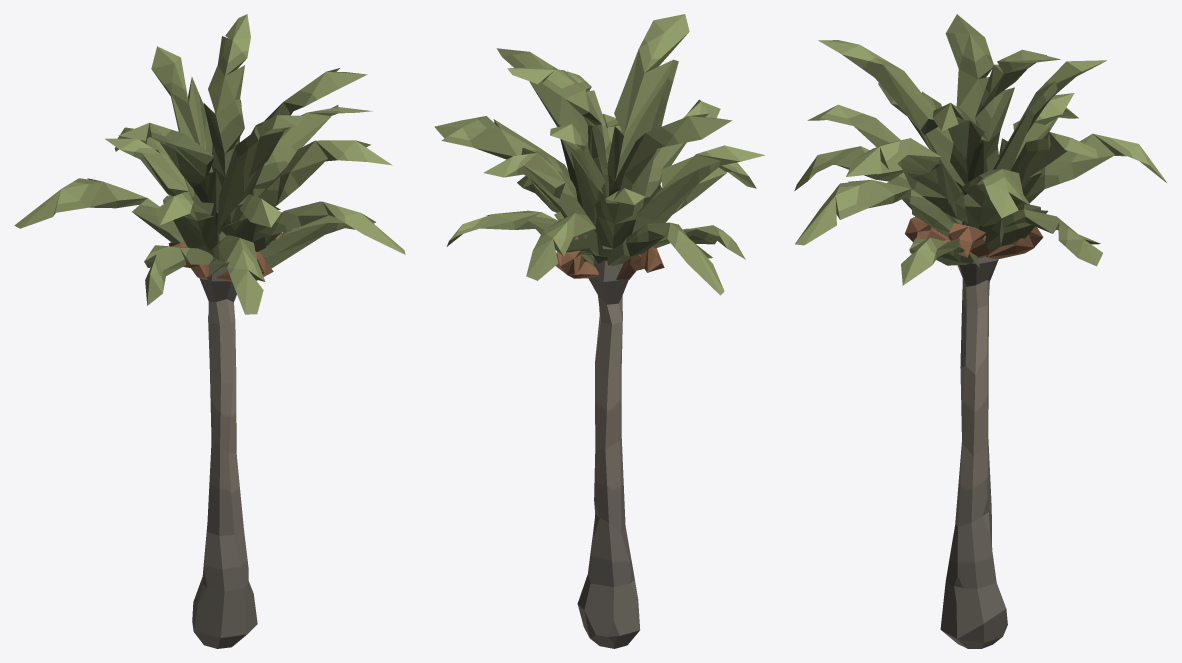
File: SM_Env_Tree_Big_01.fbx
The picture shows the model from 3 angles, left to right: view 1: azimuth 30°, elevation 25°; view 2: azimuth 150°, elevation 25°; view 3: azimuth 270°, elevation 25°; orthographic projection. The views are drawn at different scales.
Visible parts, largest first — view 1: SM_Env_Tree_Big_01; view 2: SM_Env_Tree_Big_01; view 3: SM_Env_Tree_Big_01.
Part boxes in pixels (bbox=[...]): SM_Env_Tree_Big_01: bbox=[14, 14, 405, 648]; SM_Env_Tree_Big_01: bbox=[434, 14, 764, 648]; SM_Env_Tree_Big_01: bbox=[794, 14, 1166, 648].
Bounding box in the file's own units: 528 × 921 × 501.
